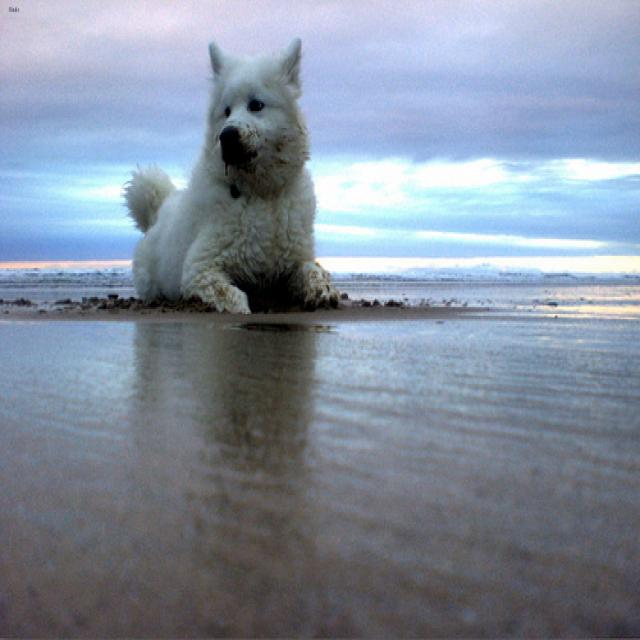dog-samoyed: (119, 27, 343, 319)
